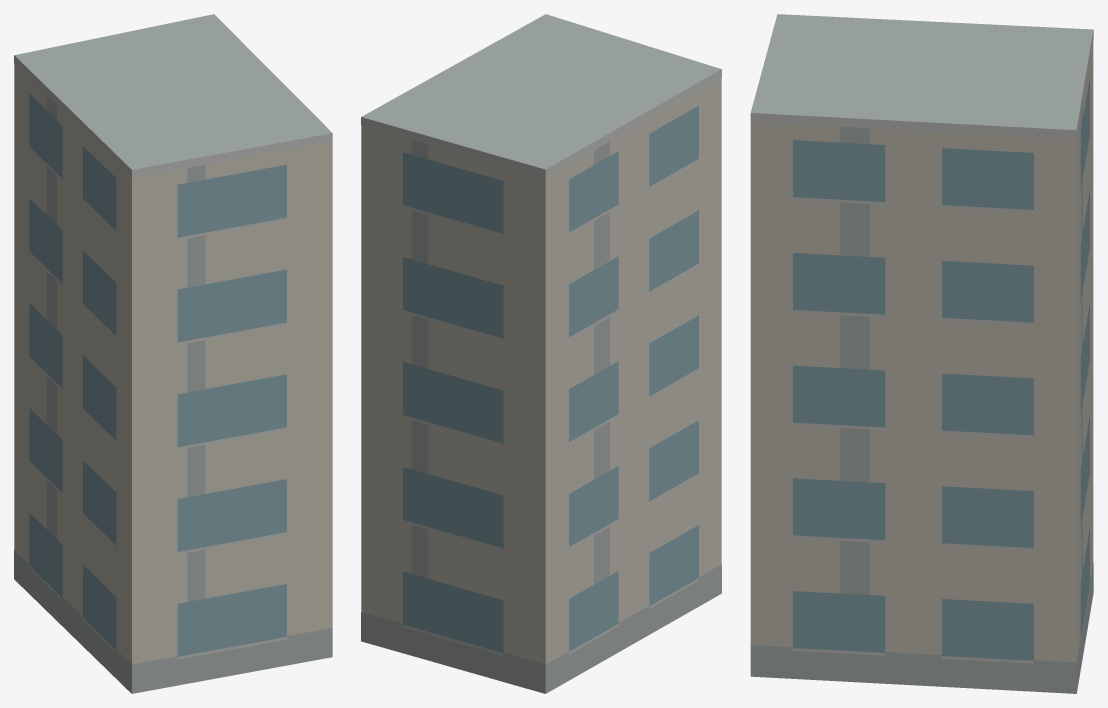
The model's file is residential-b0af716e-bde1-4bdd-b671-dcd154bf512b.glb.
3 renders of one model, left to right at view 1: azimuth 30°, elevation 25°; view 2: azimuth 150°, elevation 25°; view 3: azimuth 270°, elevation 25°, orthographic. The views are drawn at different scales.
Parts seen in each view (by area): view 1: residential-b0af716e-bde1-4bdd-b671-dcd154bf512b.tmp; view 2: residential-b0af716e-bde1-4bdd-b671-dcd154bf512b.tmp; view 3: residential-b0af716e-bde1-4bdd-b671-dcd154bf512b.tmp.
Part boxes in pixels (x1,y1,x2,y2): residential-b0af716e-bde1-4bdd-b671-dcd154bf512b.tmp: (14,14,332,693); residential-b0af716e-bde1-4bdd-b671-dcd154bf512b.tmp: (361,14,721,693); residential-b0af716e-bde1-4bdd-b671-dcd154bf512b.tmp: (750,14,1093,693).
Bounding box in the file's own units: 6.75 × 15.25 × 8.42.
